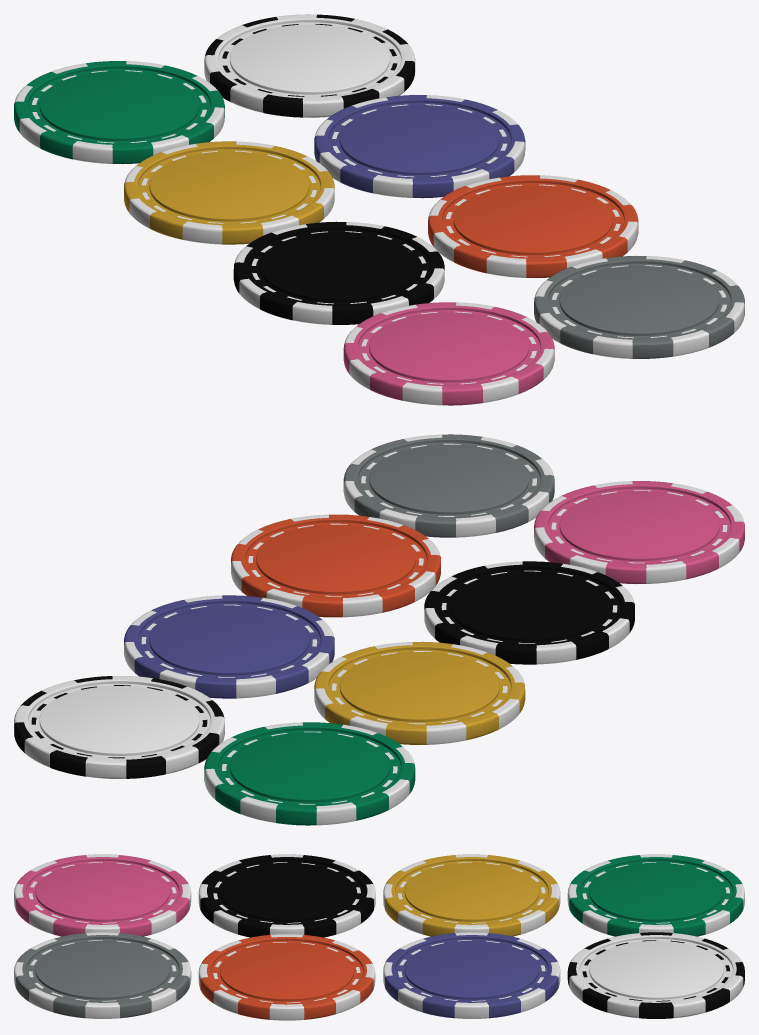
The model's file is chips.glb.
The picture shows the model from 3 angles, top to bottom: view 1: azimuth 30°, elevation 25°; view 2: azimuth 150°, elevation 25°; view 3: azimuth 270°, elevation 25°; orthographic projection. The views are drawn at different scales.
Visible parts, largest first — view 1: chip_pink, chip_gray, chip_yellow, chip_blue, chip_black, chip_green, chip_white, chip_red; view 2: chip_green, chip_white, chip_gray, chip_black, chip_yellow, chip_pink, chip_blue, chip_red; view 3: chip_blue, chip_white, chip_gray, chip_red, chip_black, chip_yellow, chip_pink, chip_green.
Part boxes in pixels (x1=…): chip_pink: x1=343, y1=302, x2=554, y2=405; chip_gray: x1=534, y1=255, x2=744, y2=358; chip_yellow: x1=124, y1=141, x2=334, y2=244; chip_blue: x1=314, y1=95, x2=525, y2=198; chip_black: x1=233, y1=221, x2=444, y2=324; chip_green: x1=14, y1=61, x2=224, y2=164; chip_white: x1=204, y1=14, x2=415, y2=117; chip_red: x1=428, y1=175, x2=638, y2=277; chip_green: x1=204, y1=722, x2=415, y2=825; chip_white: x1=14, y1=675, x2=224, y2=778; chip_gray: x1=343, y1=434, x2=554, y2=537; chip_black: x1=424, y1=561, x2=634, y2=664; chip_yellow: x1=314, y1=641, x2=525, y2=744; chip_pink: x1=534, y1=481, x2=744, y2=584; chip_blue: x1=124, y1=595, x2=334, y2=698; chip_red: x1=231, y1=514, x2=440, y2=617; chip_blue: x1=383, y1=932, x2=560, y2=1018; chip_white: x1=567, y1=932, x2=744, y2=1018; chip_gray: x1=14, y1=932, x2=191, y2=1018; chip_red: x1=198, y1=934, x2=375, y2=1020; chip_black: x1=198, y1=854, x2=375, y2=937; chip_yellow: x1=383, y1=854, x2=560, y2=936; chip_pink: x1=14, y1=854, x2=191, y2=936; chip_green: x1=567, y1=854, x2=744, y2=936.
Size of the model in its own units: 0.0805 by 0.00338 by 0.1614.
